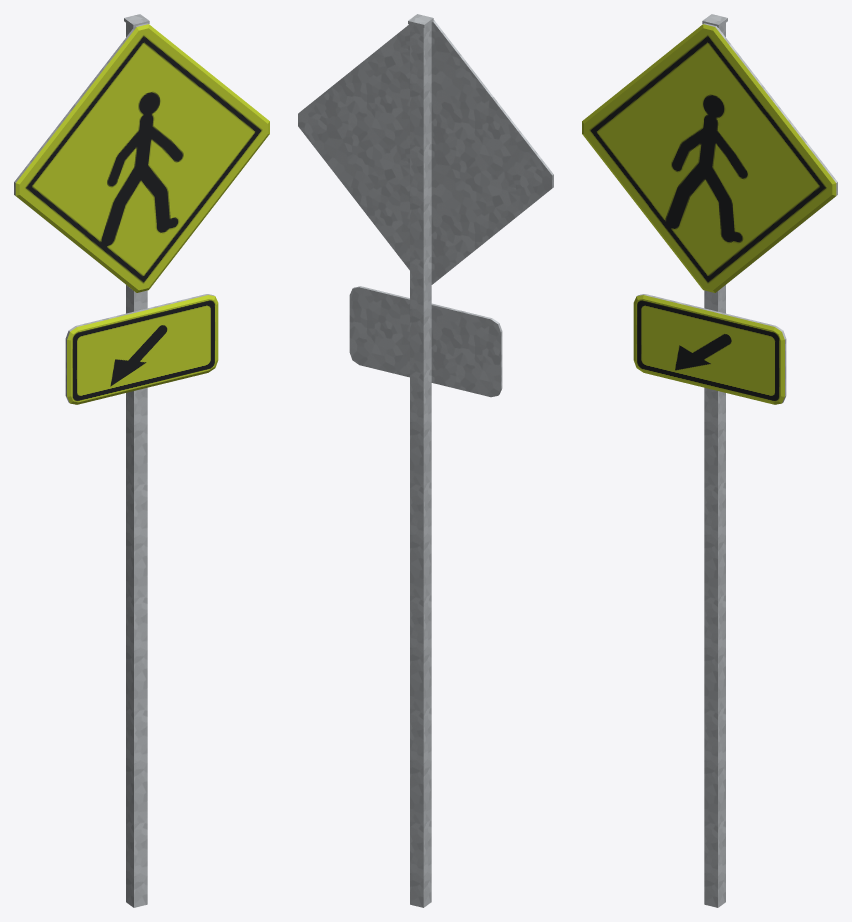
Rendered from crosswalk_sign.gltf.
3 views of the same model, side by side, from view 1: azimuth 30°, elevation 25°; view 2: azimuth 150°, elevation 25°; view 3: azimuth 330°, elevation 25° (orthographic).
Visible parts, largest first — view 1: crosswalk_sign; view 2: crosswalk_sign; view 3: crosswalk_sign.
Part boxes in pixels (left/top/right/bottom): crosswalk_sign: left=14, top=14, right=269, bottom=907; crosswalk_sign: left=298, top=14, right=553, bottom=907; crosswalk_sign: left=582, top=14, right=837, bottom=907.
Bounding box in the file's own units: 1.18 × 3.92 × 0.0943.
Materials: 2 (2 with a texture image).
